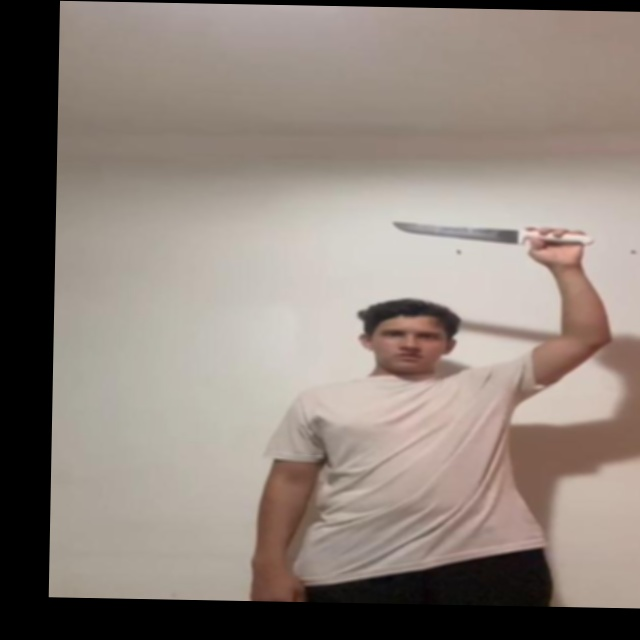Sharp-Object: (385, 215, 516, 244)
